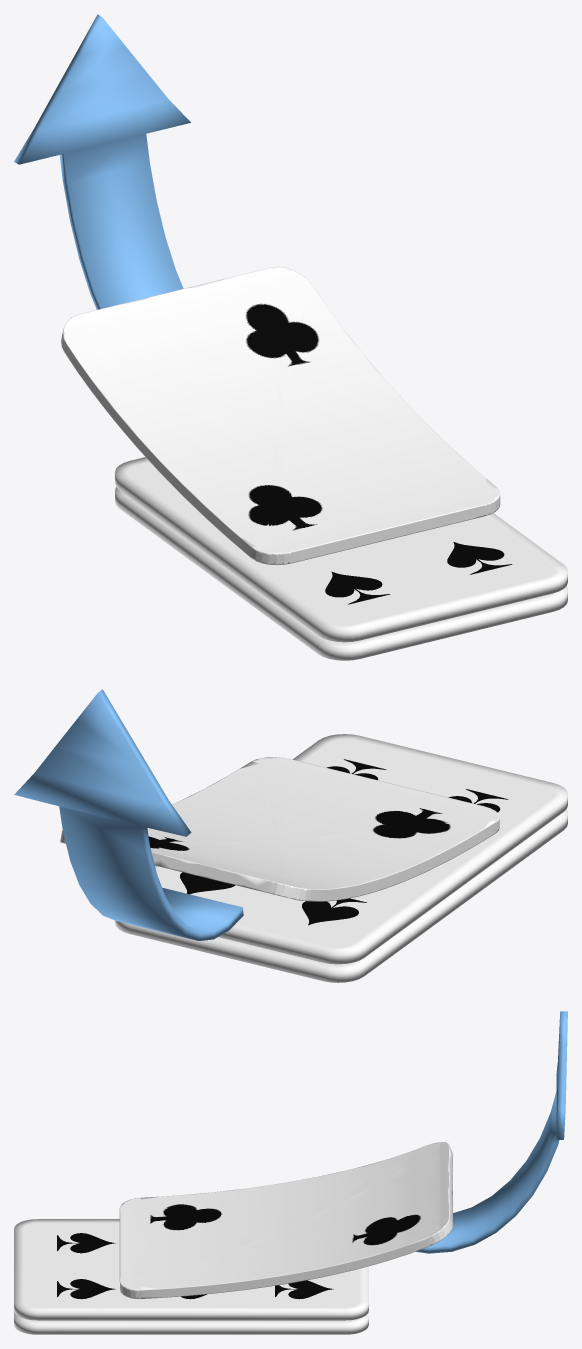
The model's file is Card_Draw_Icon.glb.
3 renders of one model, top to bottom at view 1: azimuth 30°, elevation 25°; view 2: azimuth 150°, elevation 25°; view 3: azimuth 270°, elevation 25°, orthographic. The views are drawn at different scales.
Parts seen in each view (by area): view 1: Plane; view 2: Plane; view 3: Plane.
Boxes of the visible parts, left/top/right/bottom form: Plane: left=14, top=14, right=567, bottom=660; Plane: left=14, top=689, right=567, bottom=982; Plane: left=14, top=1011, right=567, bottom=1334.
Size of the model in its own units: 0.0473 by 0.0661 by 0.1197.
4 materials, 1 textured.
